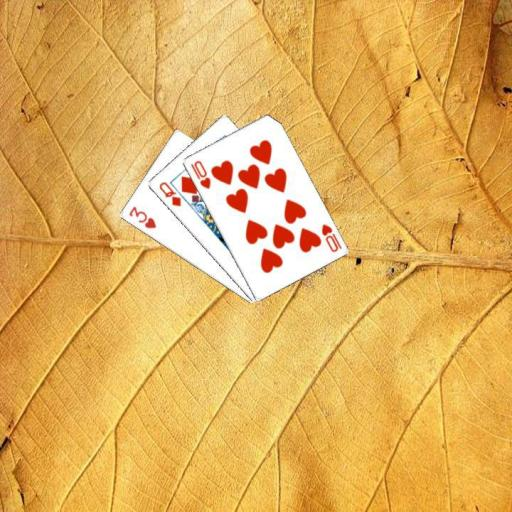10H: (187, 157, 212, 191), (318, 220, 343, 254)
3H: (125, 204, 157, 231)
QD: (156, 179, 182, 208)
